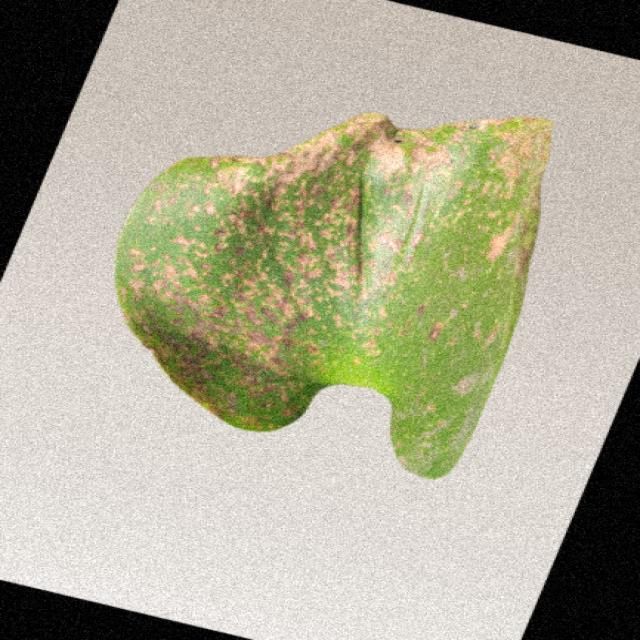daun berpenyakit bercak: (115, 114, 551, 478)
